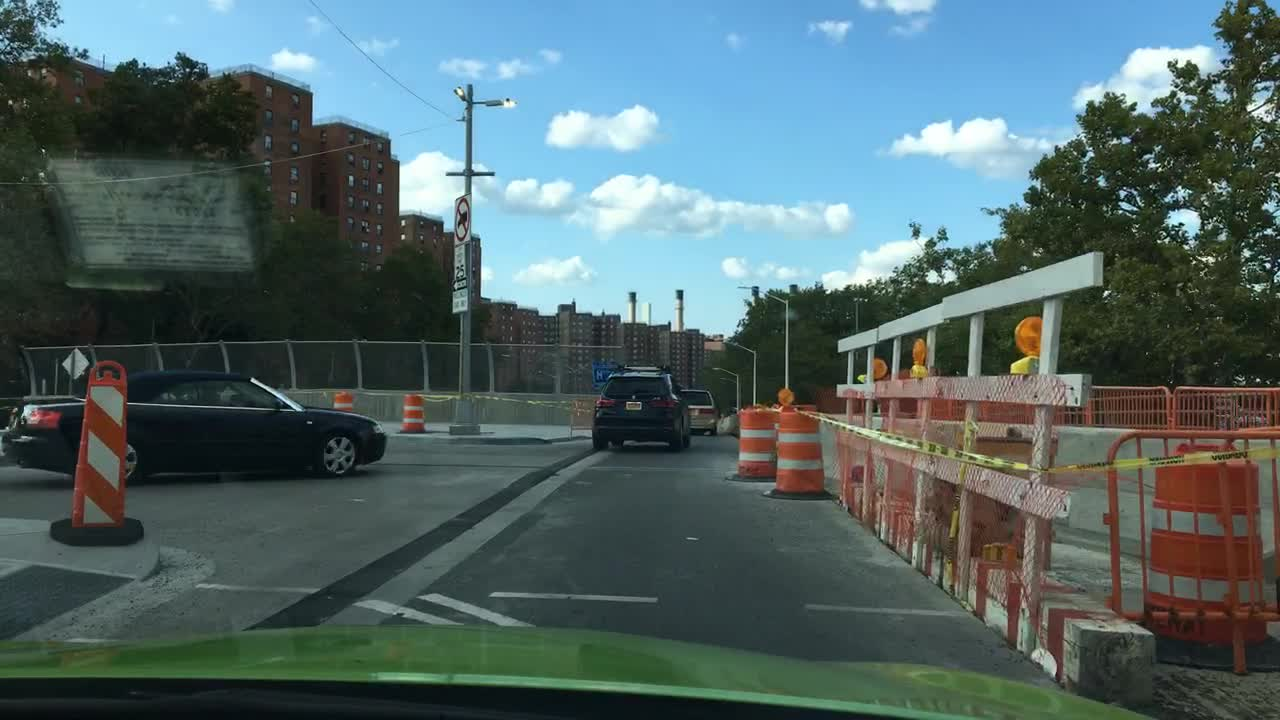car: (1, 362, 388, 486), (590, 362, 690, 454), (678, 388, 717, 436)
traffic sign: (450, 192, 471, 244), (57, 343, 91, 375), (591, 358, 615, 383), (453, 245, 465, 278), (449, 290, 467, 312), (450, 277, 468, 290)
